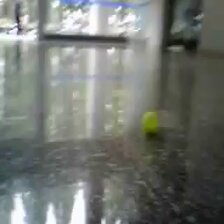tennis: (142, 112, 160, 134)
